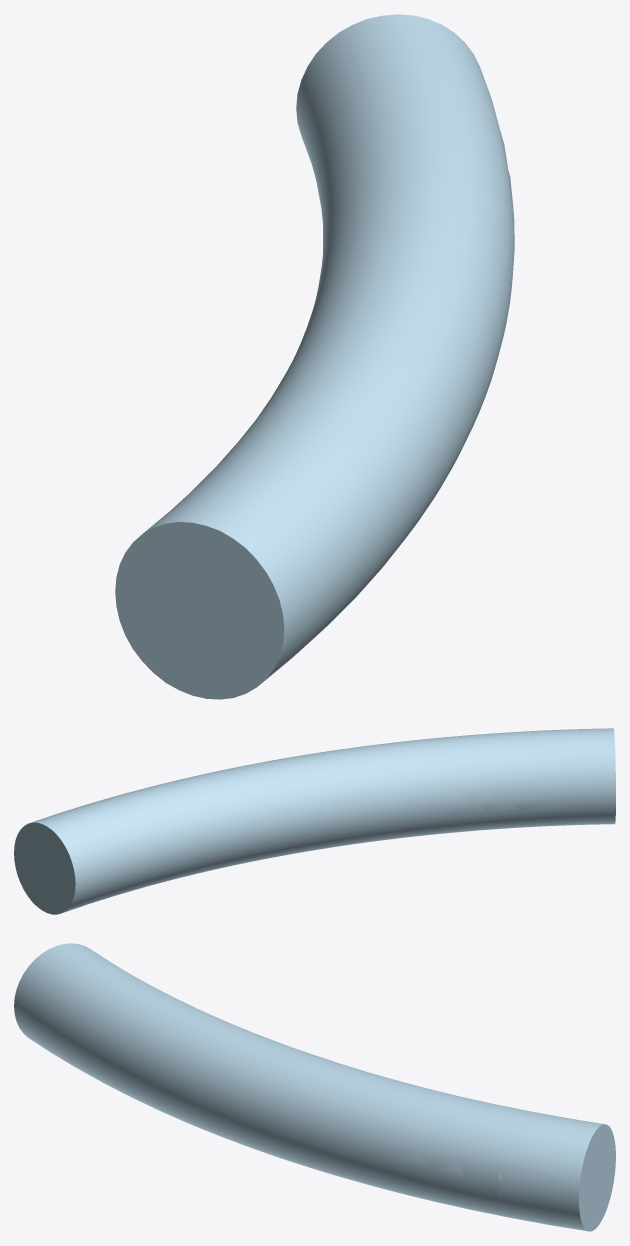
Rendered from Exc_Motor_5203_2402_0188_60.obj.
3 renders of one model, top to bottom at view 1: azimuth 30°, elevation 25°; view 2: azimuth 150°, elevation 25°; view 3: azimuth 270°, elevation 25°, orthographic. The views are drawn at different scales.
Parts seen in each view (by area): view 1: mesh28614; view 2: mesh28614; view 3: mesh28614.
Boxes of the visible parts, box(x1,y1,x2,y2) form: mesh28614: box(115, 14, 514, 699); mesh28614: box(14, 728, 615, 914); mesh28614: box(14, 943, 615, 1231).
Bounding box in the file's own units: 0.00379 × 0.000797 × 0.00444.
